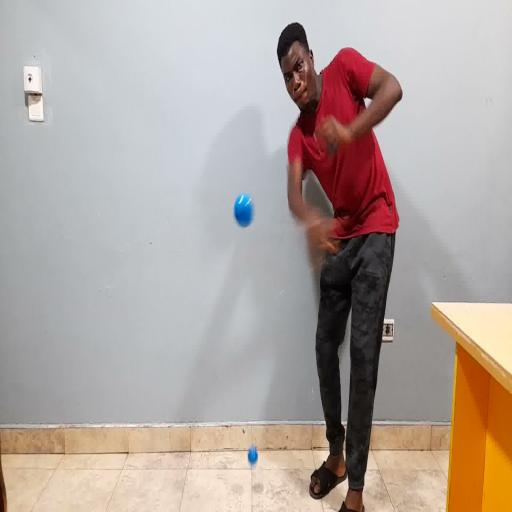plastic-ball: (234, 194, 253, 227)
